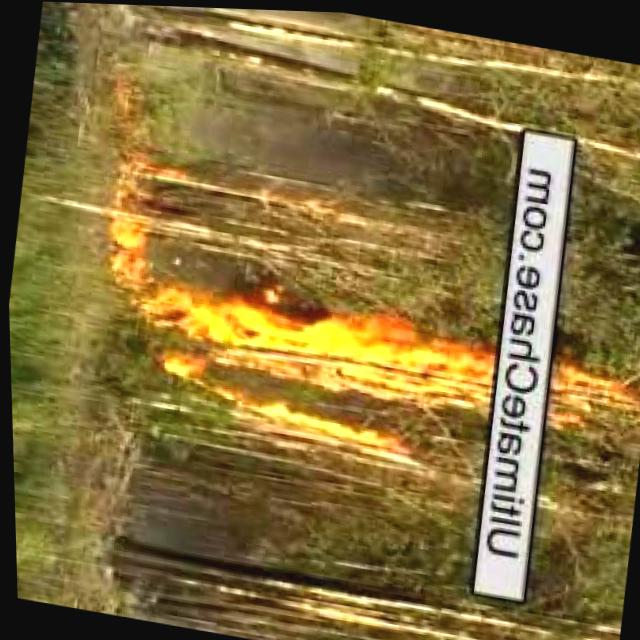helmet: (148, 282, 489, 412), (204, 383, 410, 470), (98, 193, 143, 311), (548, 364, 625, 417)
